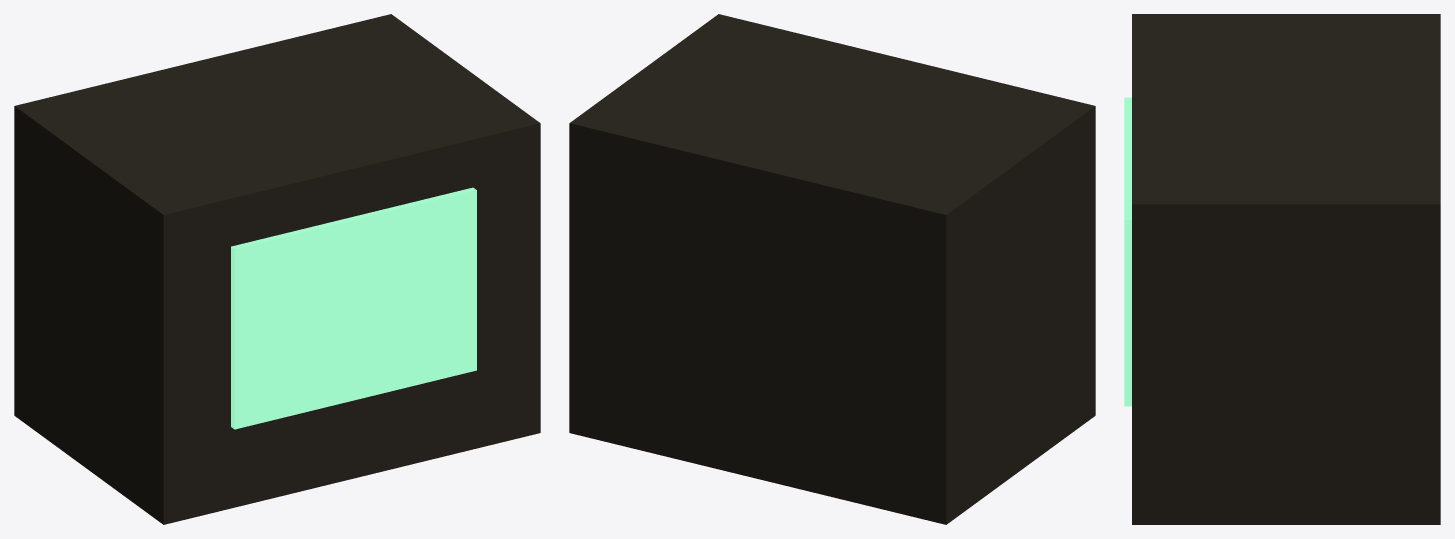
The model's file is prop_crt_monitor.gltf.
The picture shows the model from 3 angles, left to right: view 1: azimuth 30°, elevation 25°; view 2: azimuth 150°, elevation 25°; view 3: azimuth 270°, elevation 25°; orthographic projection. The views are drawn at different scales.
Parts seen in each view (by area): view 1: CRTBody, CRTScreen; view 2: CRTBody; view 3: CRTBody, CRTScreen.
Part boxes in pixels (box(x1,y1,x2,y2)): CRTBody: box(14, 14, 540, 524); CRTScreen: box(231, 187, 476, 429); CRTBody: box(569, 14, 1095, 524); CRTBody: box(1132, 14, 1440, 524); CRTScreen: box(1124, 97, 1131, 406).
Bounding box in the file's own units: 0.7 × 0.55 × 0.492.
